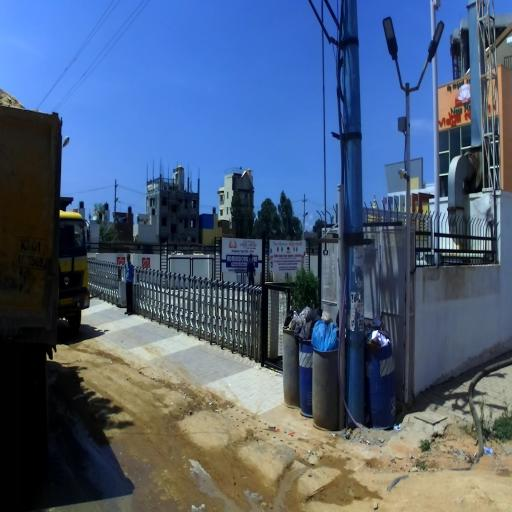street_light_0: (61, 136, 70, 148)
